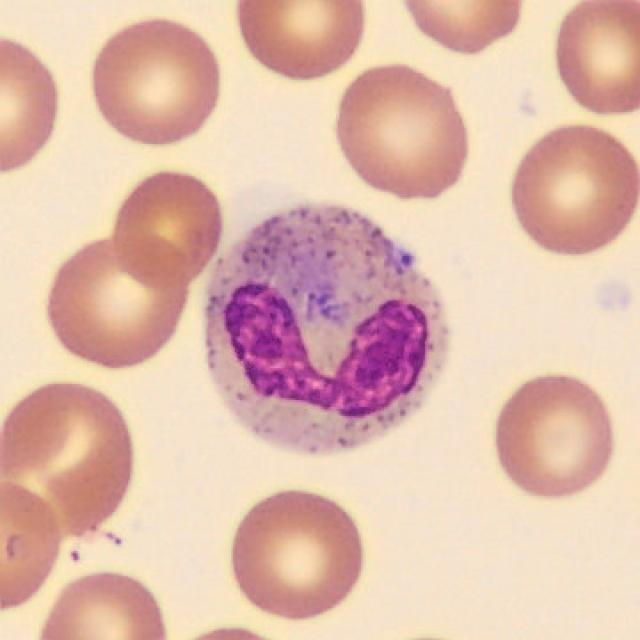Neutrofilo segmentado: (203, 206, 448, 457)
